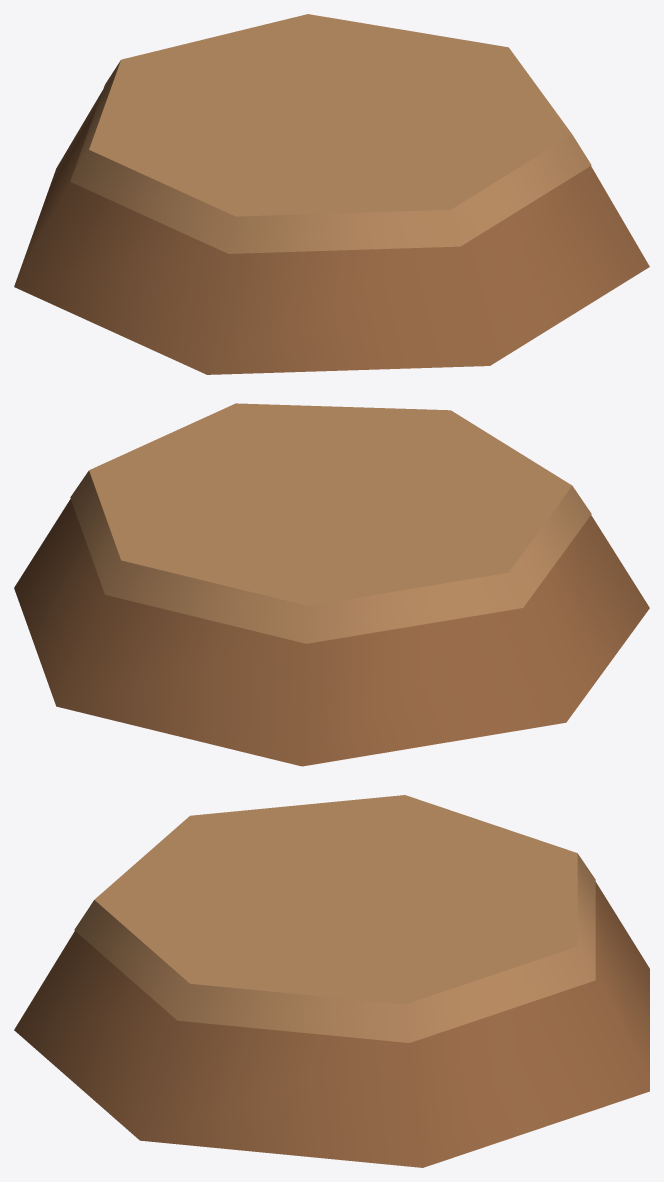
File: mound.glb
3 renders of one model, top to bottom at view 1: azimuth 30°, elevation 25°; view 2: azimuth 150°, elevation 25°; view 3: azimuth 270°, elevation 25°, orthographic. The views are drawn at different scales.
Parts seen in each view (by area): view 1: mound; view 2: mound; view 3: mound.
Part boxes in pixels (left/top/right/bottom): mound: left=14, top=14, right=649, bottom=374; mound: left=14, top=403, right=649, bottom=766; mound: left=14, top=795, right=649, bottom=1167.
Bounding box in the file's own units: 0.9749 × 0.215 × 0.9505.
